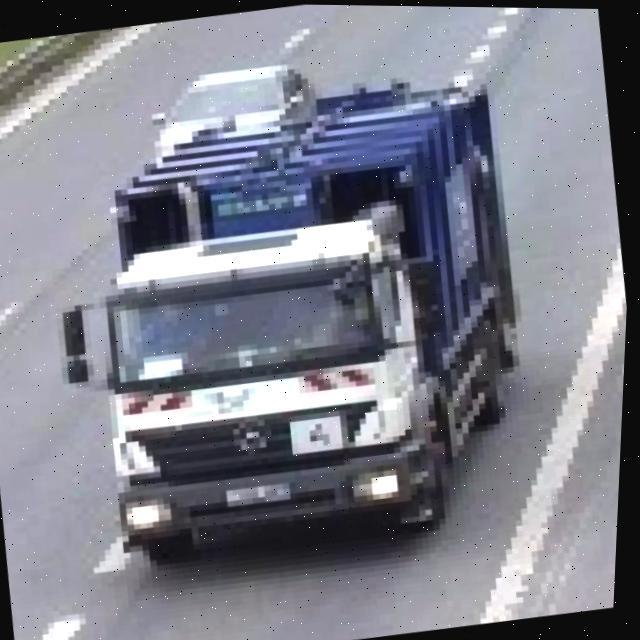truck: (22, 55, 543, 590)
